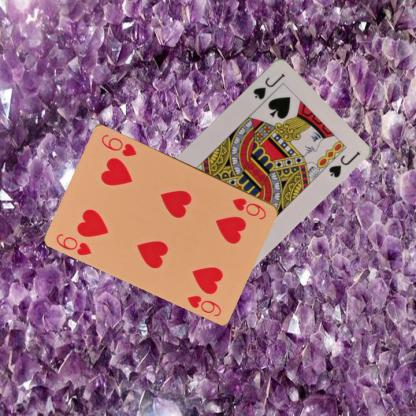6h: (54, 231, 94, 257), (230, 194, 268, 220)
Js: (250, 70, 287, 100)
